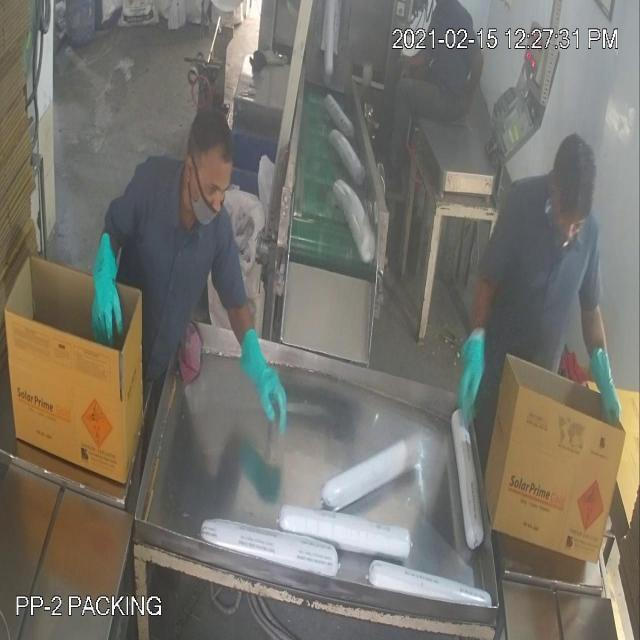Gloves: (32, 39, 608, 390)
